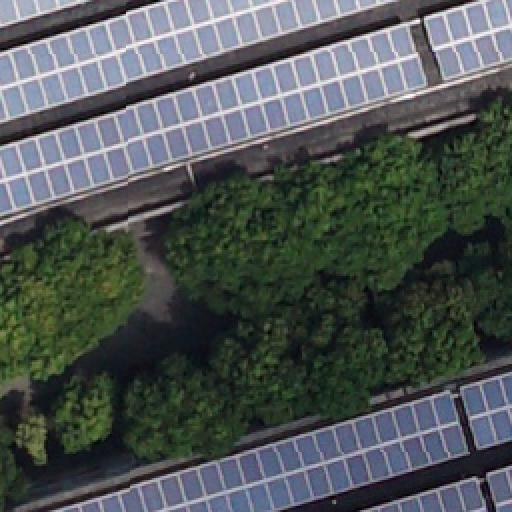solar-panel: (1, 22, 431, 218), (56, 388, 468, 512), (1, 1, 399, 127), (422, 0, 512, 80), (358, 473, 490, 511), (460, 367, 512, 449), (0, 0, 84, 28), (486, 464, 512, 512)
